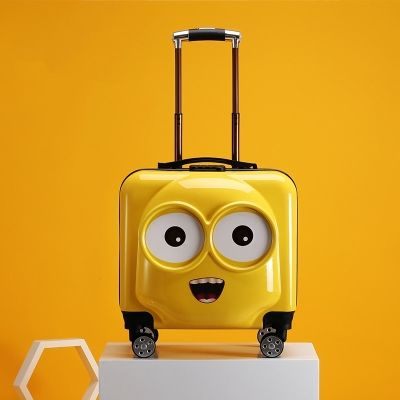box: (119, 169, 298, 329)
handle: (158, 157, 258, 171)
lock: (190, 164, 227, 172)
wheel: (131, 333, 157, 358), (259, 333, 284, 358)
